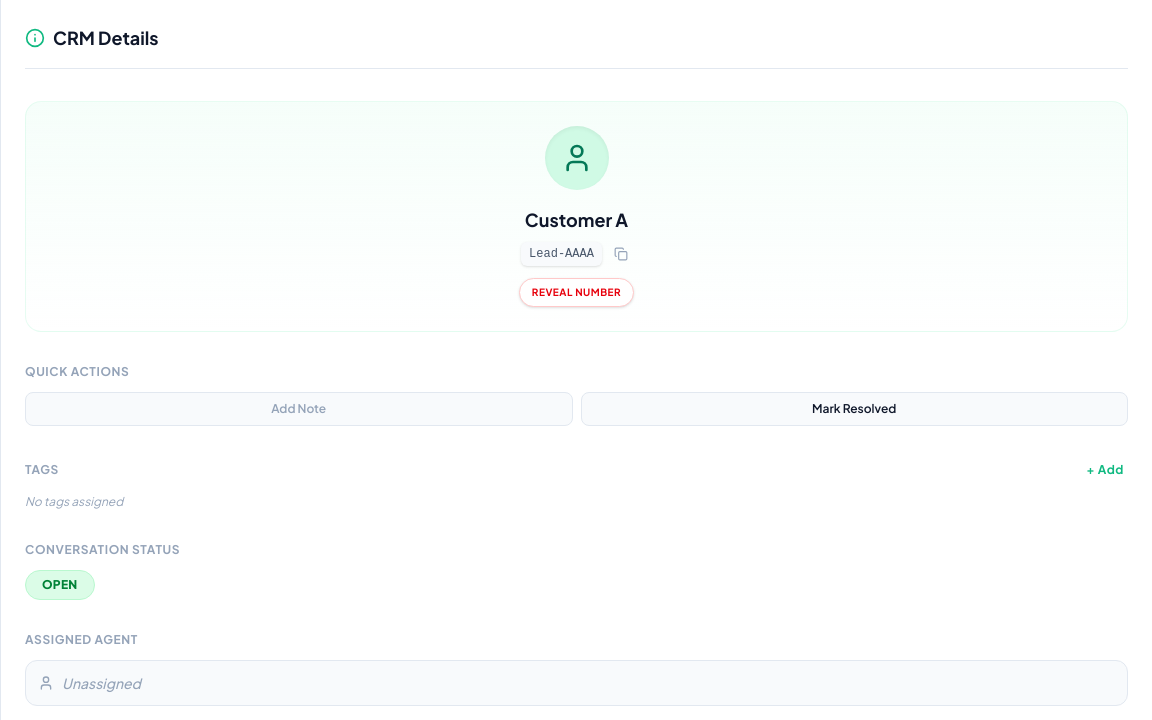
Test: CrmSidebar Component - Tags › shows a helpful message when no tags have been configured yet
Click the button "+ Add".
click(1105, 470)  # box [1082,458,1128,482]
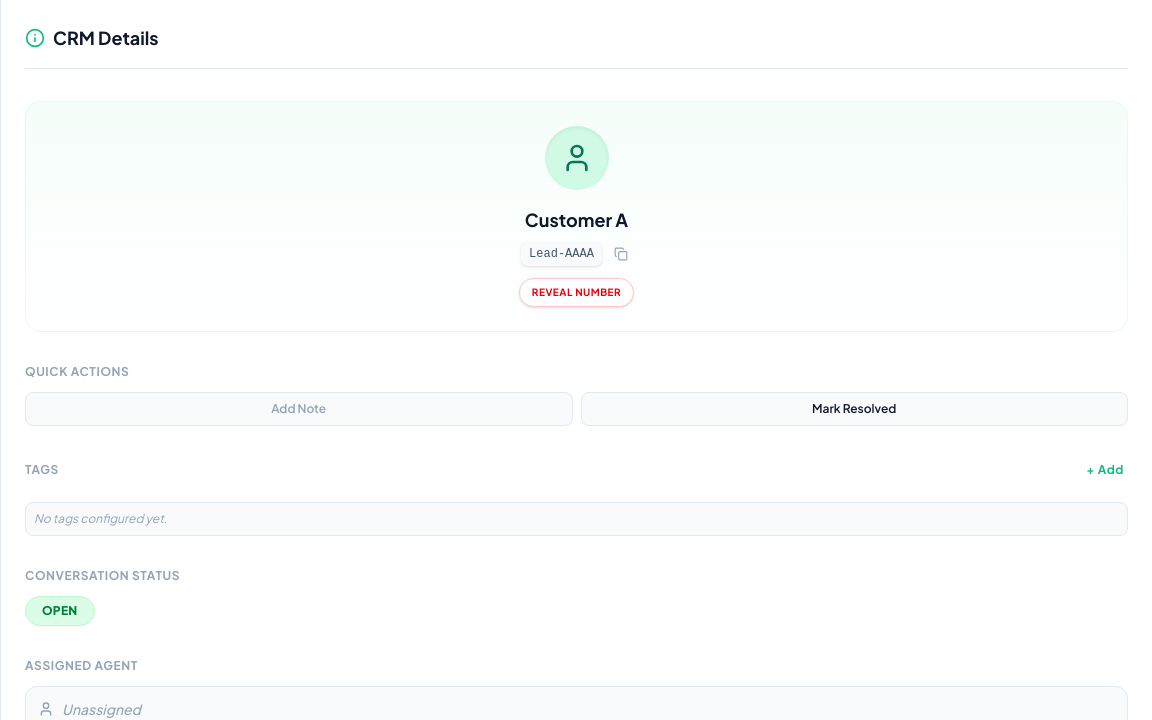
Now the text "No tags configured yet." is shown, box [34,511,167,527]
